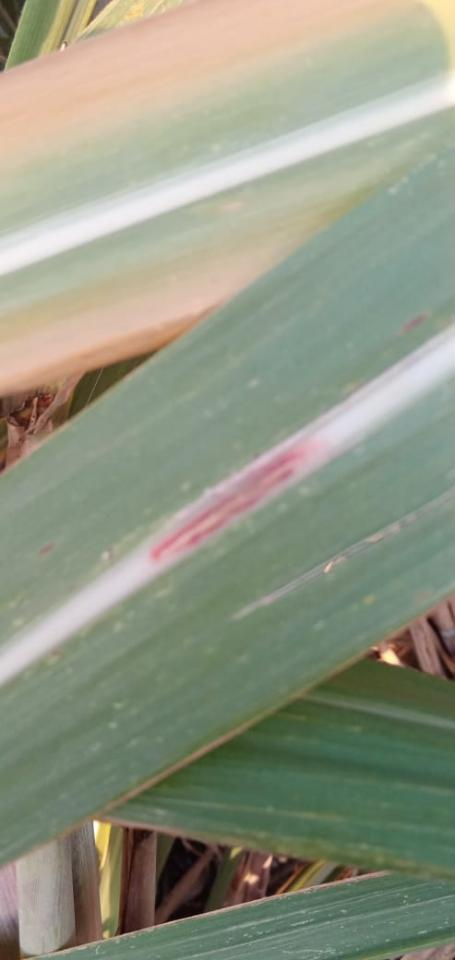RedRot: (147, 436, 330, 565)
Rust: (402, 314, 428, 334), (38, 542, 54, 556)
Yellow: (0, 0, 416, 157), (0, 261, 281, 397)
